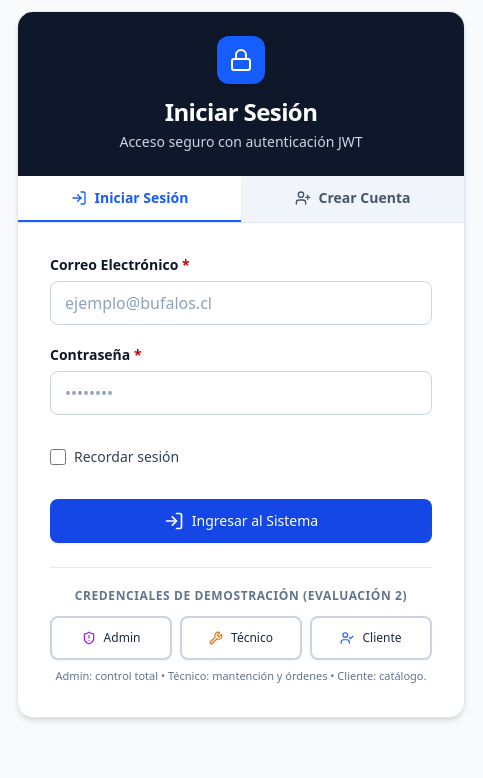
Test case: LoginPage Component › permite cambiar a la pestaña de registro y muestra los campos y opciones de rol
This screenshot has width=483, height=778.
Click the tab "Crear Cuenta". click: click(352, 199)
box: [241,176,464,222]
(page scrolled)
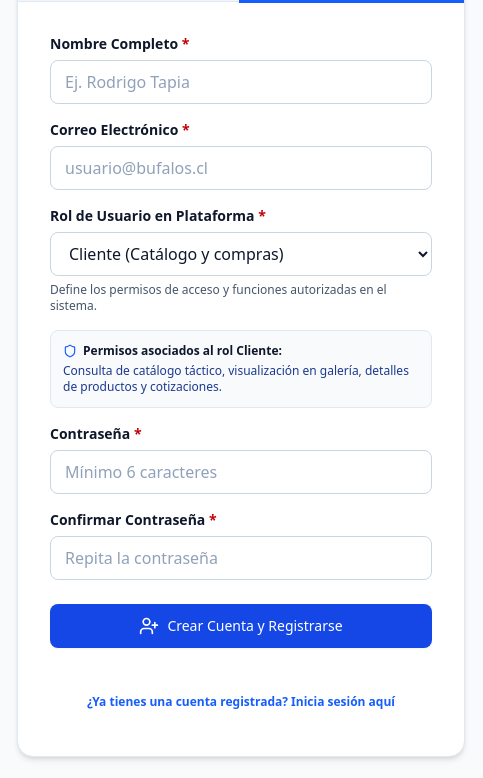
Expected: the field labelled "Nombre Completo *" is shown, [50,60,432,104]
Expected: the dropdown labelled "Rol de Usuario en Plataforma *" is shown, [50,232,432,276]
Expected: the password field labelled "Contraseña *" is shown, [50,450,432,494]
